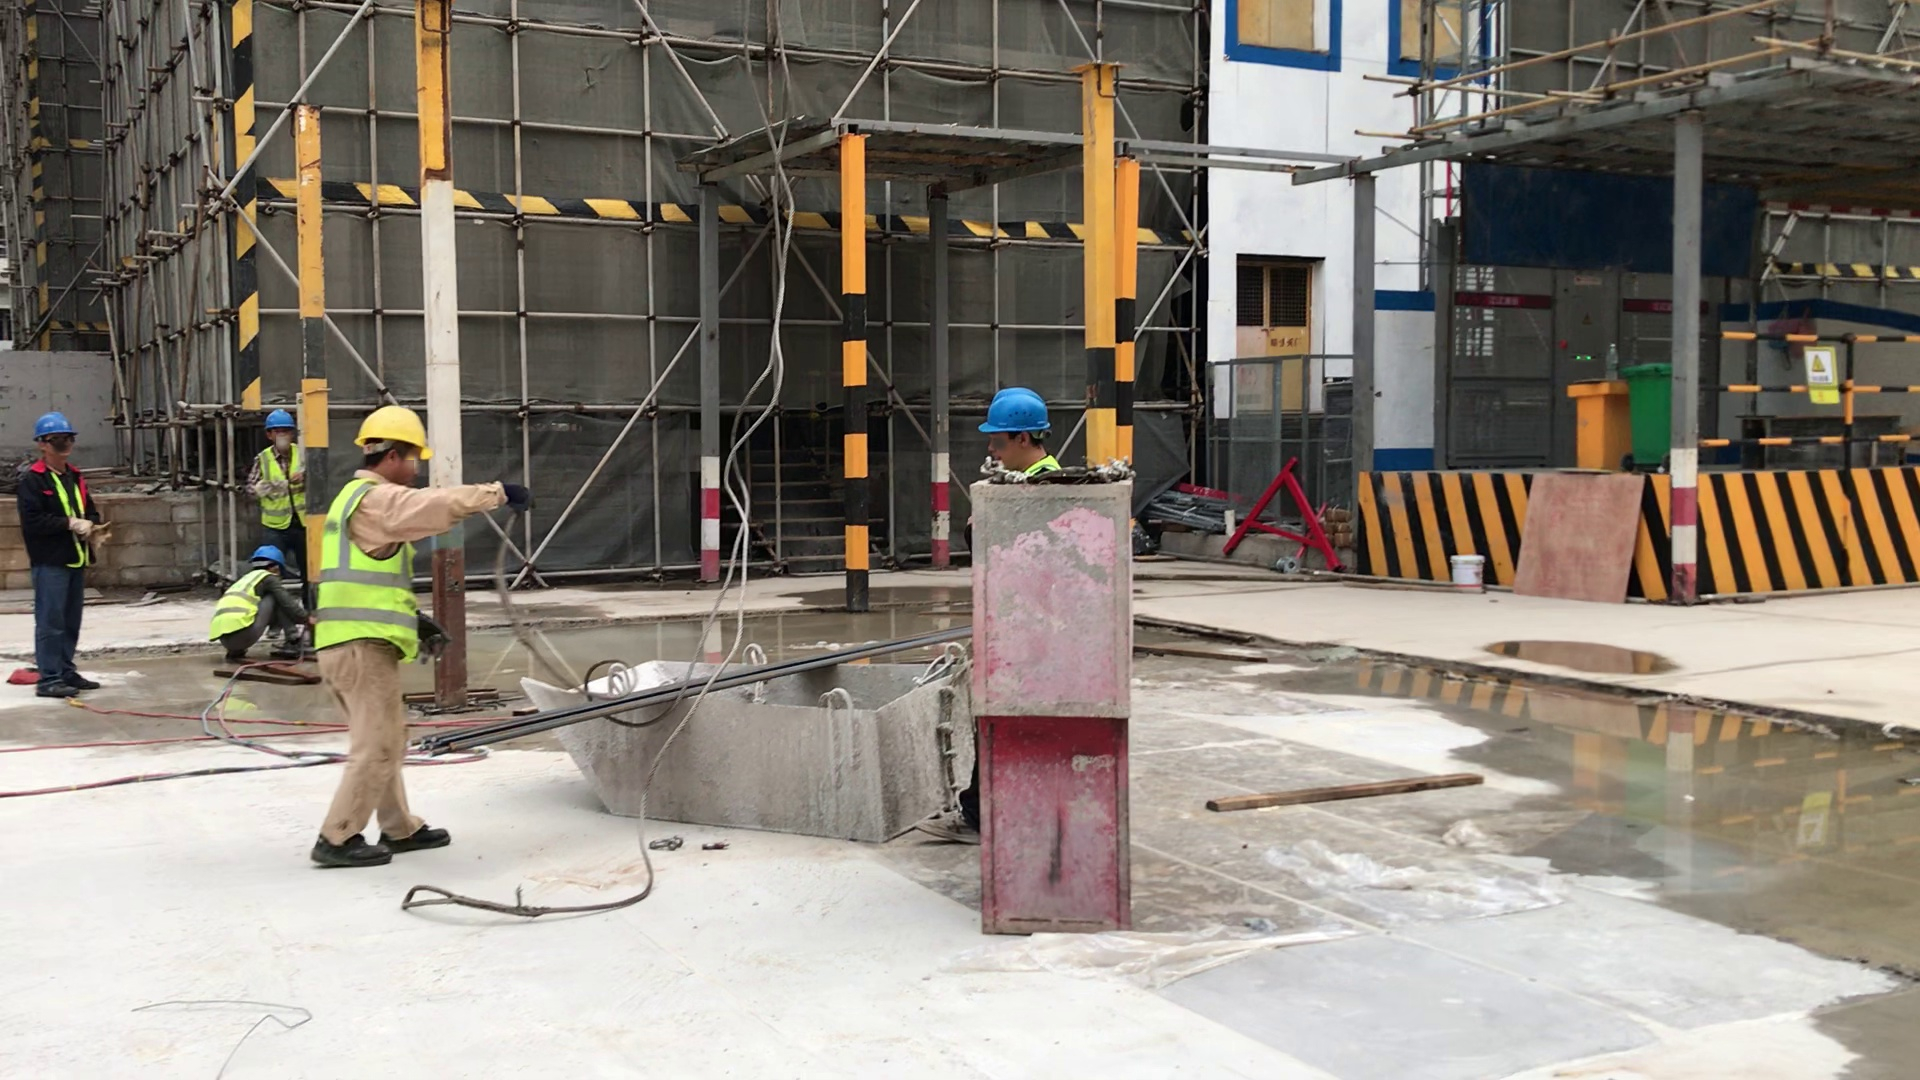helmet: (342, 400, 444, 462), (978, 379, 1070, 442), (16, 403, 93, 445), (254, 401, 308, 441), (242, 538, 302, 574)
person: (312, 406, 546, 891), (911, 388, 1050, 865), (11, 399, 120, 711), (220, 541, 304, 696), (244, 400, 319, 556)
vest: (308, 479, 436, 666), (32, 462, 106, 569), (248, 443, 312, 526), (212, 562, 267, 649), (1011, 453, 1074, 476)
